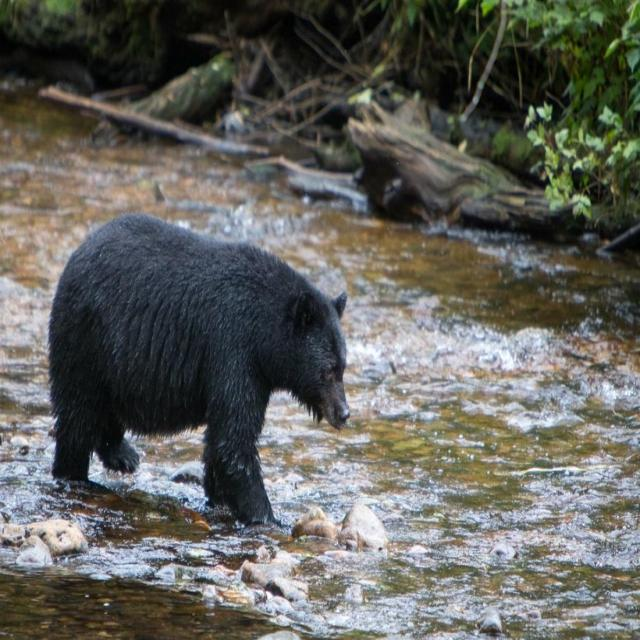Bear: (47, 214, 350, 530)
